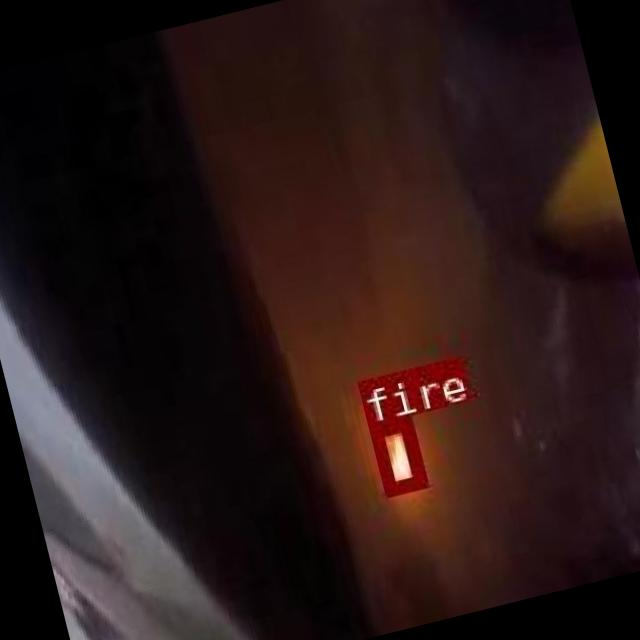fire: (366, 414, 426, 494)
